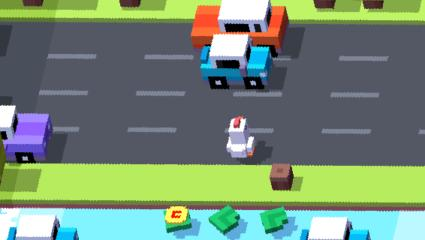hen: (226, 116, 256, 161)
obstacle: (202, 34, 276, 90), (0, 106, 53, 163), (219, 0, 289, 40), (18, 216, 81, 240), (309, 218, 372, 240), (191, 6, 219, 51), (270, 163, 294, 190), (313, 0, 336, 8), (362, 0, 385, 8), (120, 0, 143, 7), (21, 0, 47, 6)
timber: (261, 206, 289, 234), (164, 207, 192, 234), (212, 206, 240, 233)
